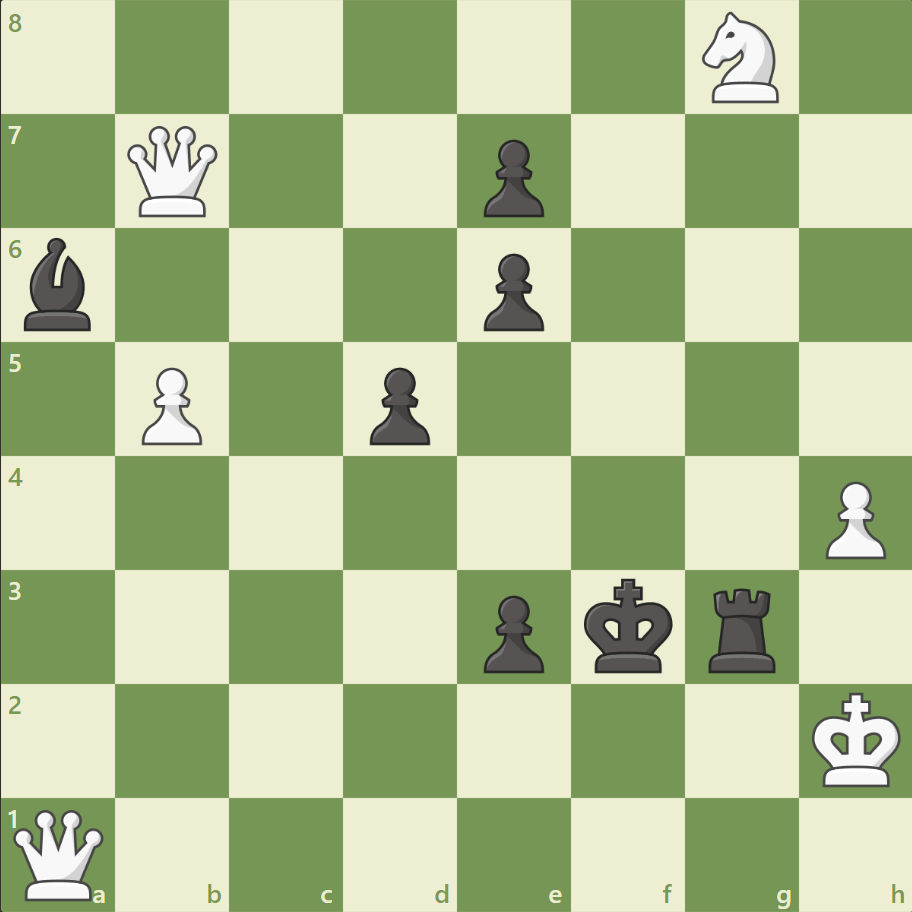K: (806, 685, 906, 793)
N: (692, 7, 789, 110)
P: (133, 359, 208, 450), (815, 473, 889, 564)
Q: (124, 122, 223, 222), (10, 804, 109, 903)
b: (17, 233, 101, 336)
k: (579, 571, 679, 679)
p: (474, 132, 549, 223), (474, 246, 549, 337), (474, 586, 549, 677), (361, 359, 435, 450)
r: (700, 579, 783, 676)
